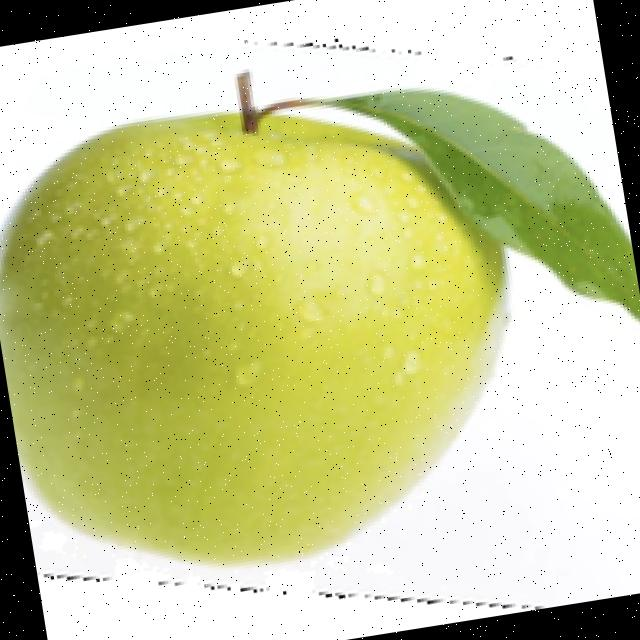apple: (0, 65, 640, 593)
